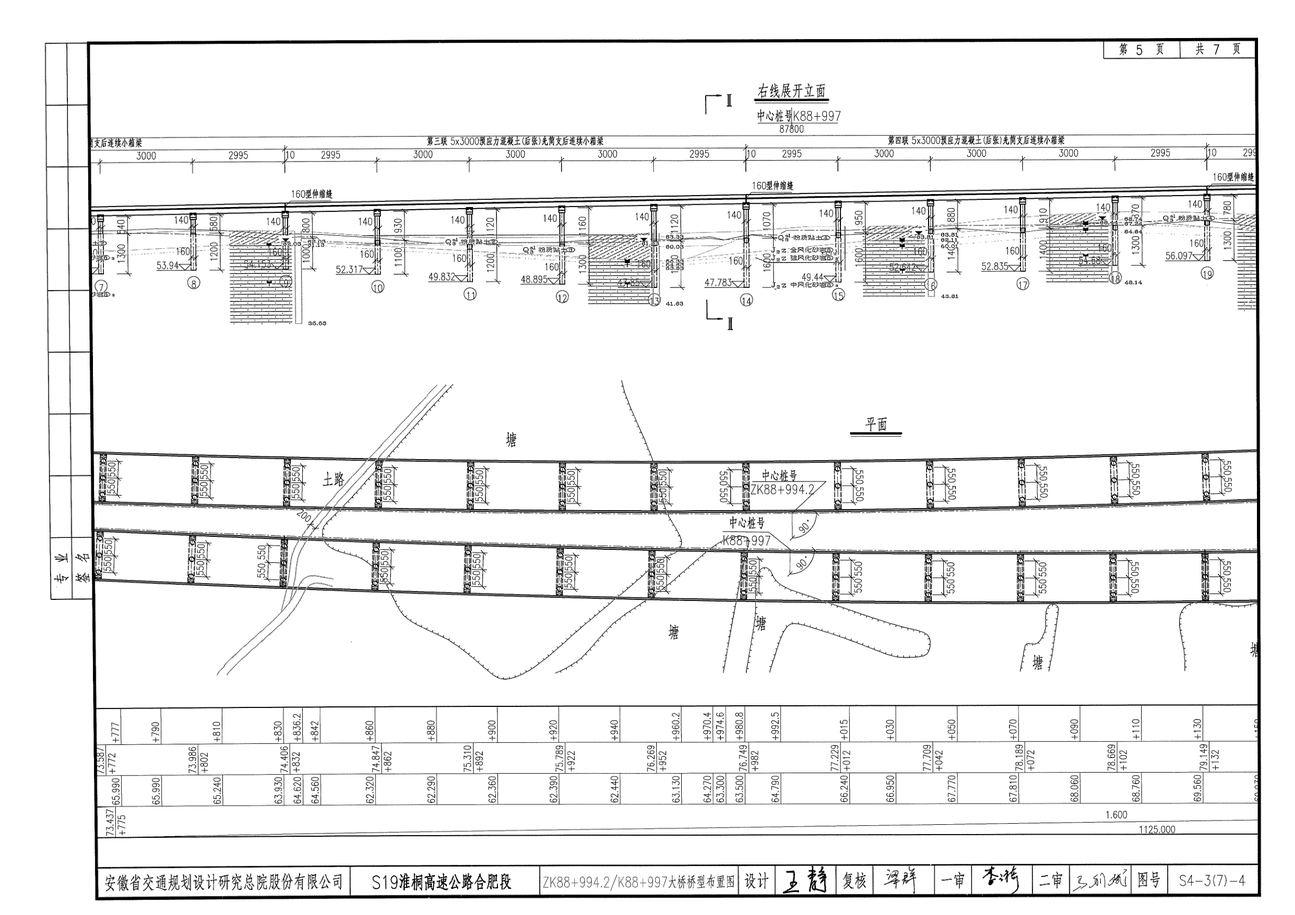A: (74, 74, 1266, 316)
